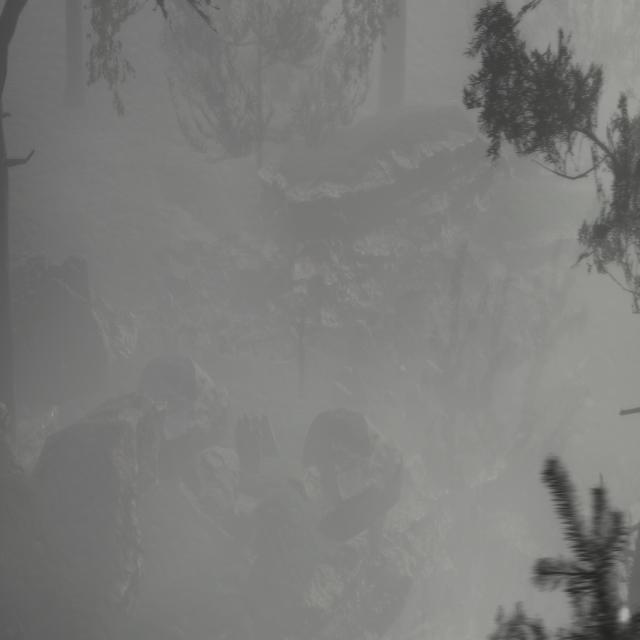Human: (297, 294, 312, 401)
